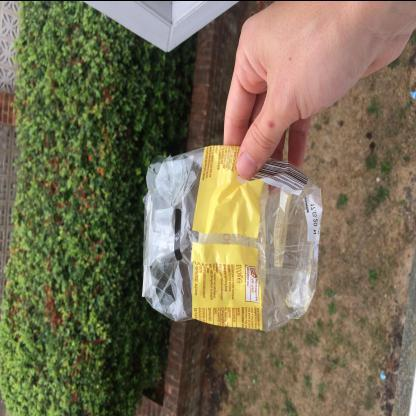plastik: (143, 141, 325, 335)
